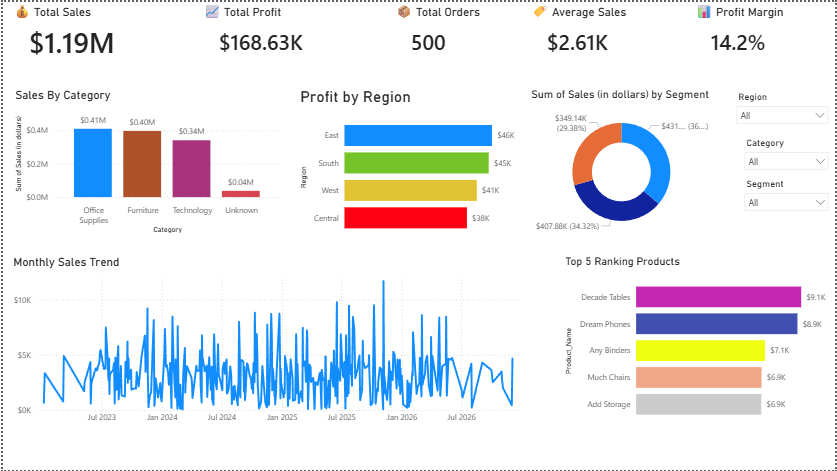

The dashboard page shown, as its layout file describes it:
{"tool":"powerbi","page":{"name":"Page 1","canvas":[1280,720],"ordinal":0},"visuals":[{"type":"cardVisual","title":"💰 Total Sales","fields":{"Data":["Sum(Retail Sales Performance Analysis - Cleaned Data.Sales (in dollars))"]},"box":[10.1,0,265.8,98.7],"z":0},{"type":"cardVisual","title":"📈 Total Profit","fields":{"Data":["Sum(Retail Sales Performance Analysis - Cleaned Data.Profit (in dollars))"]},"box":[303.8,0,257,98.7],"z":1000},{"type":"cardVisual","title":"📦 Total Orders","fields":{"Data":["CountNonNull(Retail Sales Performance Analysis - Cleaned Data.Order_ID)"]},"box":[598.7,0,197.5,98.7],"z":2000},{"type":"cardVisual","title":"🏷️ Average Sales","fields":{"Data":["Avg(Retail Sales Performance Analysis - Cleaned Data.Sales (in dollars))"]},"box":[807.6,0,222.8,98.7],"z":3000},{"type":"cardVisual","title":"📊 Profit Margin","fields":{"Data":["Retail Sales Performance Analysis - Cleaned Data.Profit Margin"]},"box":[1059.5,0,220.3,98.7],"z":4000},{"type":"clusteredColumnChart","title":"Sales By Category","fields":{"Category":["Retail Sales Performance Analysis - Cleaned Data.Category"],"Y":["Sum(Retail Sales Performance Analysis - Cleaned Data.Sales (in dollars))"]},"box":[13.9,131.6,419,227.8],"z":5000},{"type":"clusteredBarChart","title":"Profit by Region","fields":{"Y":["Sum(Retail Sales Performance Analysis - Cleaned Data.Profit (in dollars))"],"Category":["Retail Sales Performance Analysis - Cleaned Data.Region"]},"box":[451.9,131.6,358.2,239.2],"z":6000},{"type":"lineChart","title":"Monthly Sales Trend","fields":{"Y":["Sum(Retail Sales Performance Analysis - Cleaned Data.Sales (in dollars))"],"Category":["Retail Sales Performance Analysis - Cleaned Data.Order_Date"]},"box":[10.1,389.9,800,268.4],"z":7000},{"type":"clusteredBarChart","title":"Top 5 Ranking Products","fields":{"Category":["Retail Sales Performance Analysis - Cleaned Data.Product_Name"],"Y":["Sum(Retail Sales Performance Analysis - Cleaned Data.Sales (in dollars))"]},"box":[859.5,389.9,413.9,268.4],"z":7001},{"type":"donutChart","fields":{"Category":["Retail Sales Performance Analysis - Cleaned Data.Segment"],"Y":["Sum(Retail Sales Performance Analysis - Cleaned Data.Sales (in dollars))"]},"box":[807.6,131.6,287.3,239.2],"z":7002},{"type":"slicer","fields":{"Values":["Retail Sales Performance Analysis - Cleaned Data.Region"]},"box":[1119,131.6,160.8,70.9],"z":7003},{"type":"slicer","fields":{"Values":["Retail Sales Performance Analysis - Cleaned Data.Category"]},"box":[1130.4,202.5,149.4,63.3],"z":7004},{"type":"slicer","fields":{"Values":["Retail Sales Performance Analysis - Cleaned Data.Segment"]},"box":[1130.4,265.8,149.4,67.1],"z":7005}]}

Visuals, with their boxes in screenshot pixels (x1, y1, x2, y2), scaled from the page's 1280x720 canvas onto the 837x471 screenshot:
"💰 Total Sales" cardVisual: box=[7, 0, 180, 65]
"📈 Total Profit" cardVisual: box=[199, 0, 367, 65]
"📦 Total Orders" cardVisual: box=[391, 0, 521, 65]
"🏷️ Average Sales" cardVisual: box=[528, 0, 674, 65]
"📊 Profit Margin" cardVisual: box=[693, 0, 836, 65]
"Sales By Category" clusteredColumnChart: box=[9, 86, 283, 235]
"Profit by Region" clusteredBarChart: box=[296, 86, 530, 243]
"Monthly Sales Trend" lineChart: box=[7, 255, 530, 431]
"Top 5 Ranking Products" clusteredBarChart: box=[562, 255, 833, 431]
donutChart - Retail Sales Performance Analysis - Cleaned Data.Segment x Sum(Retail Sales Performance Analysis - Cleaned Data.Sales (in dollars)): box=[528, 86, 716, 243]
slicer - Retail Sales Performance Analysis - Cleaned Data.Region: box=[732, 86, 836, 132]
slicer - Retail Sales Performance Analysis - Cleaned Data.Category: box=[739, 132, 836, 174]
slicer - Retail Sales Performance Analysis - Cleaned Data.Segment: box=[739, 174, 836, 218]
